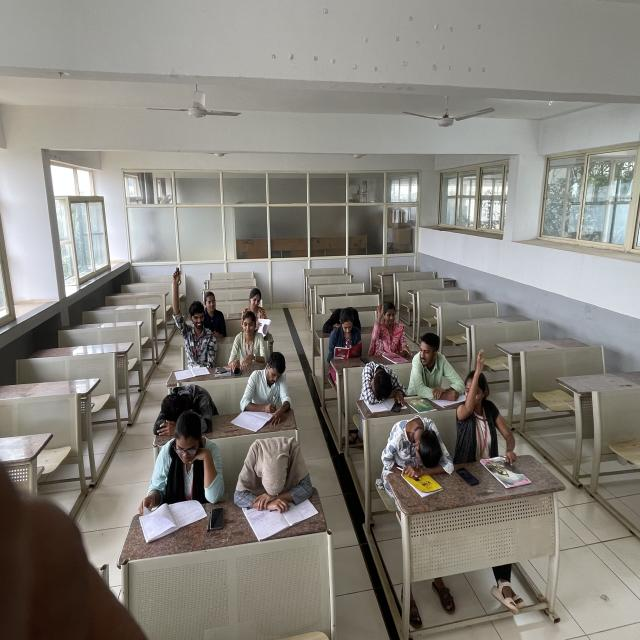Hand Rising: (455, 347, 519, 452), (166, 265, 216, 364), (372, 302, 414, 356)
Reading: (136, 419, 227, 525), (328, 307, 361, 359), (241, 290, 275, 330)
Sleeping: (233, 434, 317, 512), (379, 411, 451, 472), (147, 382, 217, 435), (352, 356, 404, 404)
Writing: (236, 354, 294, 427)
